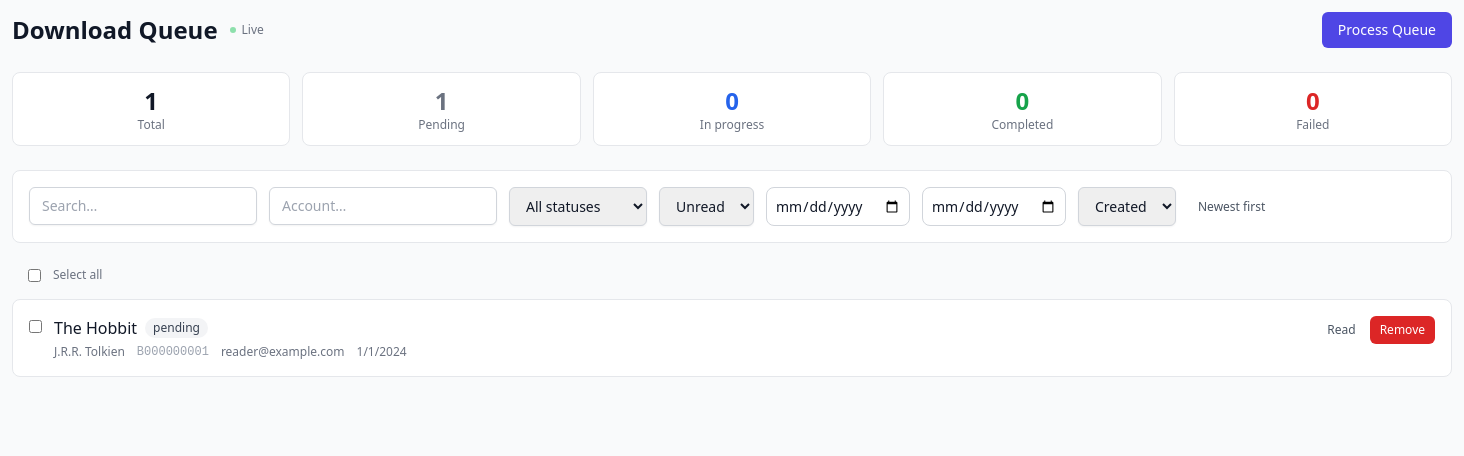
Test: DownloadQueuePage › Process Queue starts the job and reports its progress
The image size is (1464, 456).
Click the button "Process Queue". click: (1387, 30)
box: [1322,12,1452,48]
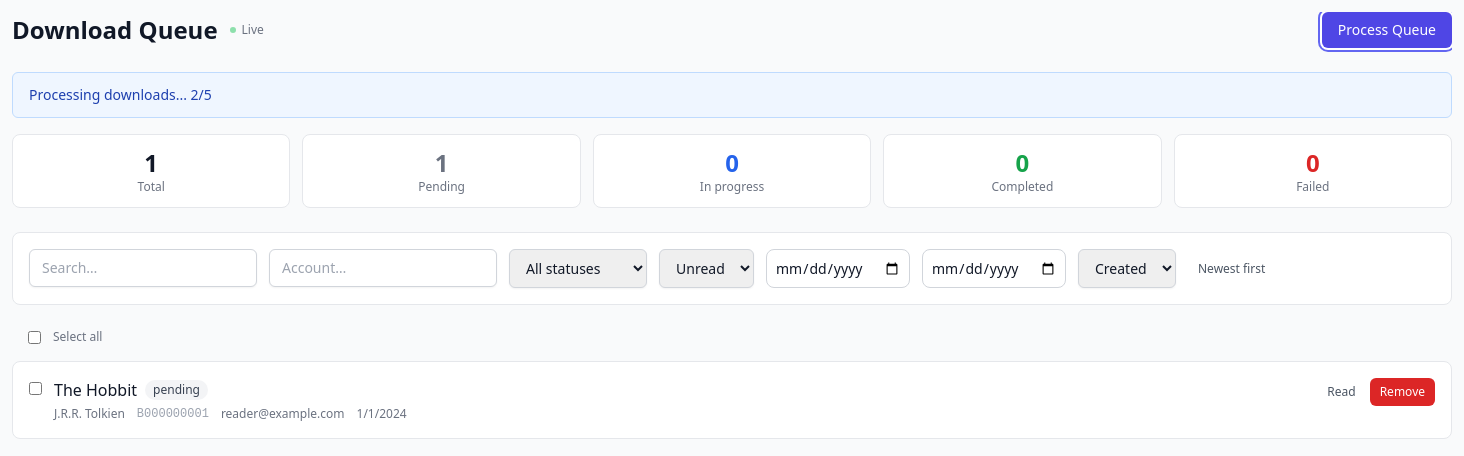
Now the text "Processing downloads... 2/5" is shown, box [12,72,1452,118]
